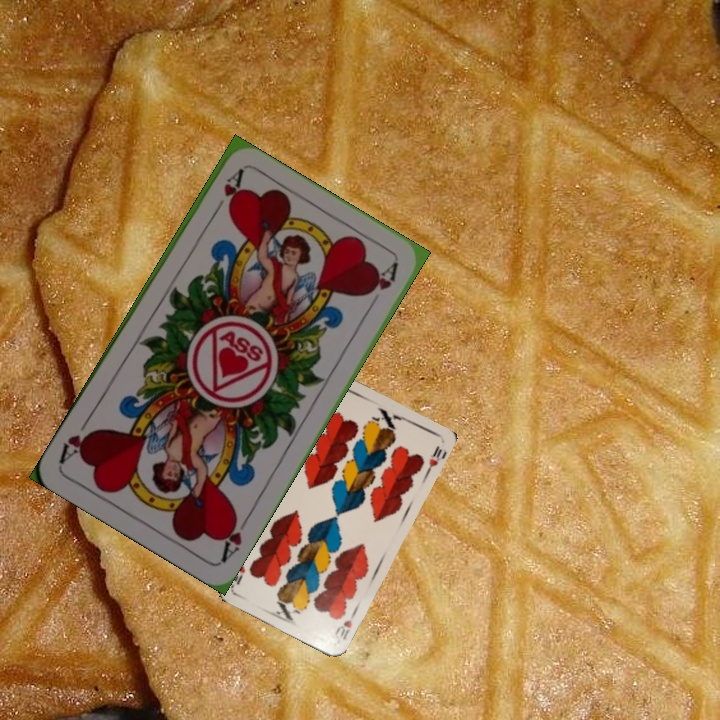H10: (330, 607, 358, 642)
HA: (217, 508, 254, 565), (208, 166, 246, 220)
